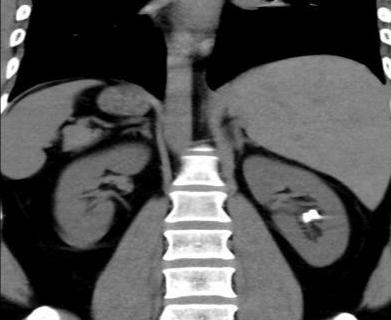Tas_Var: (296, 207, 322, 227)
